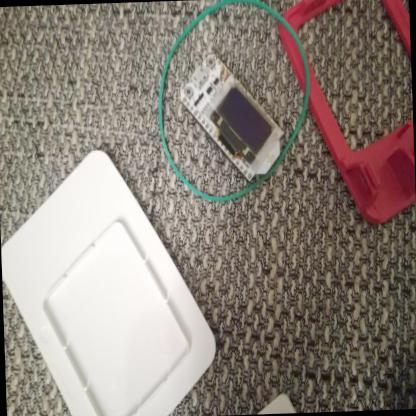Heltec_ESP32_Lora: (177, 48, 287, 186)
